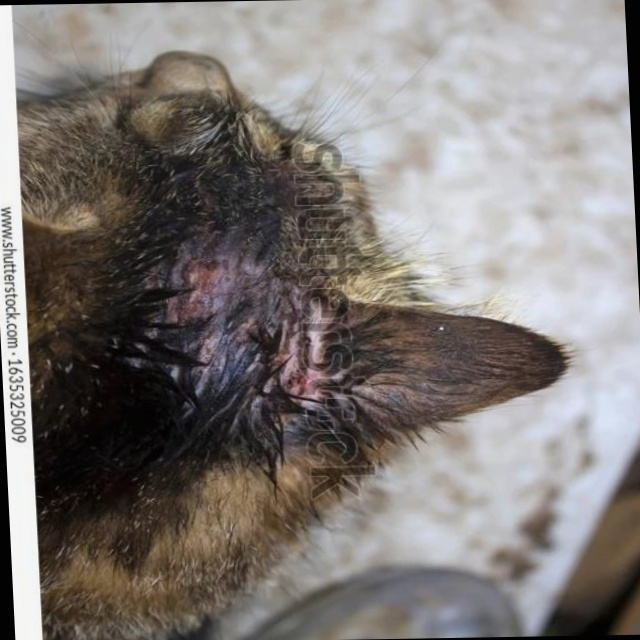ringworm: (158, 244, 343, 427)
